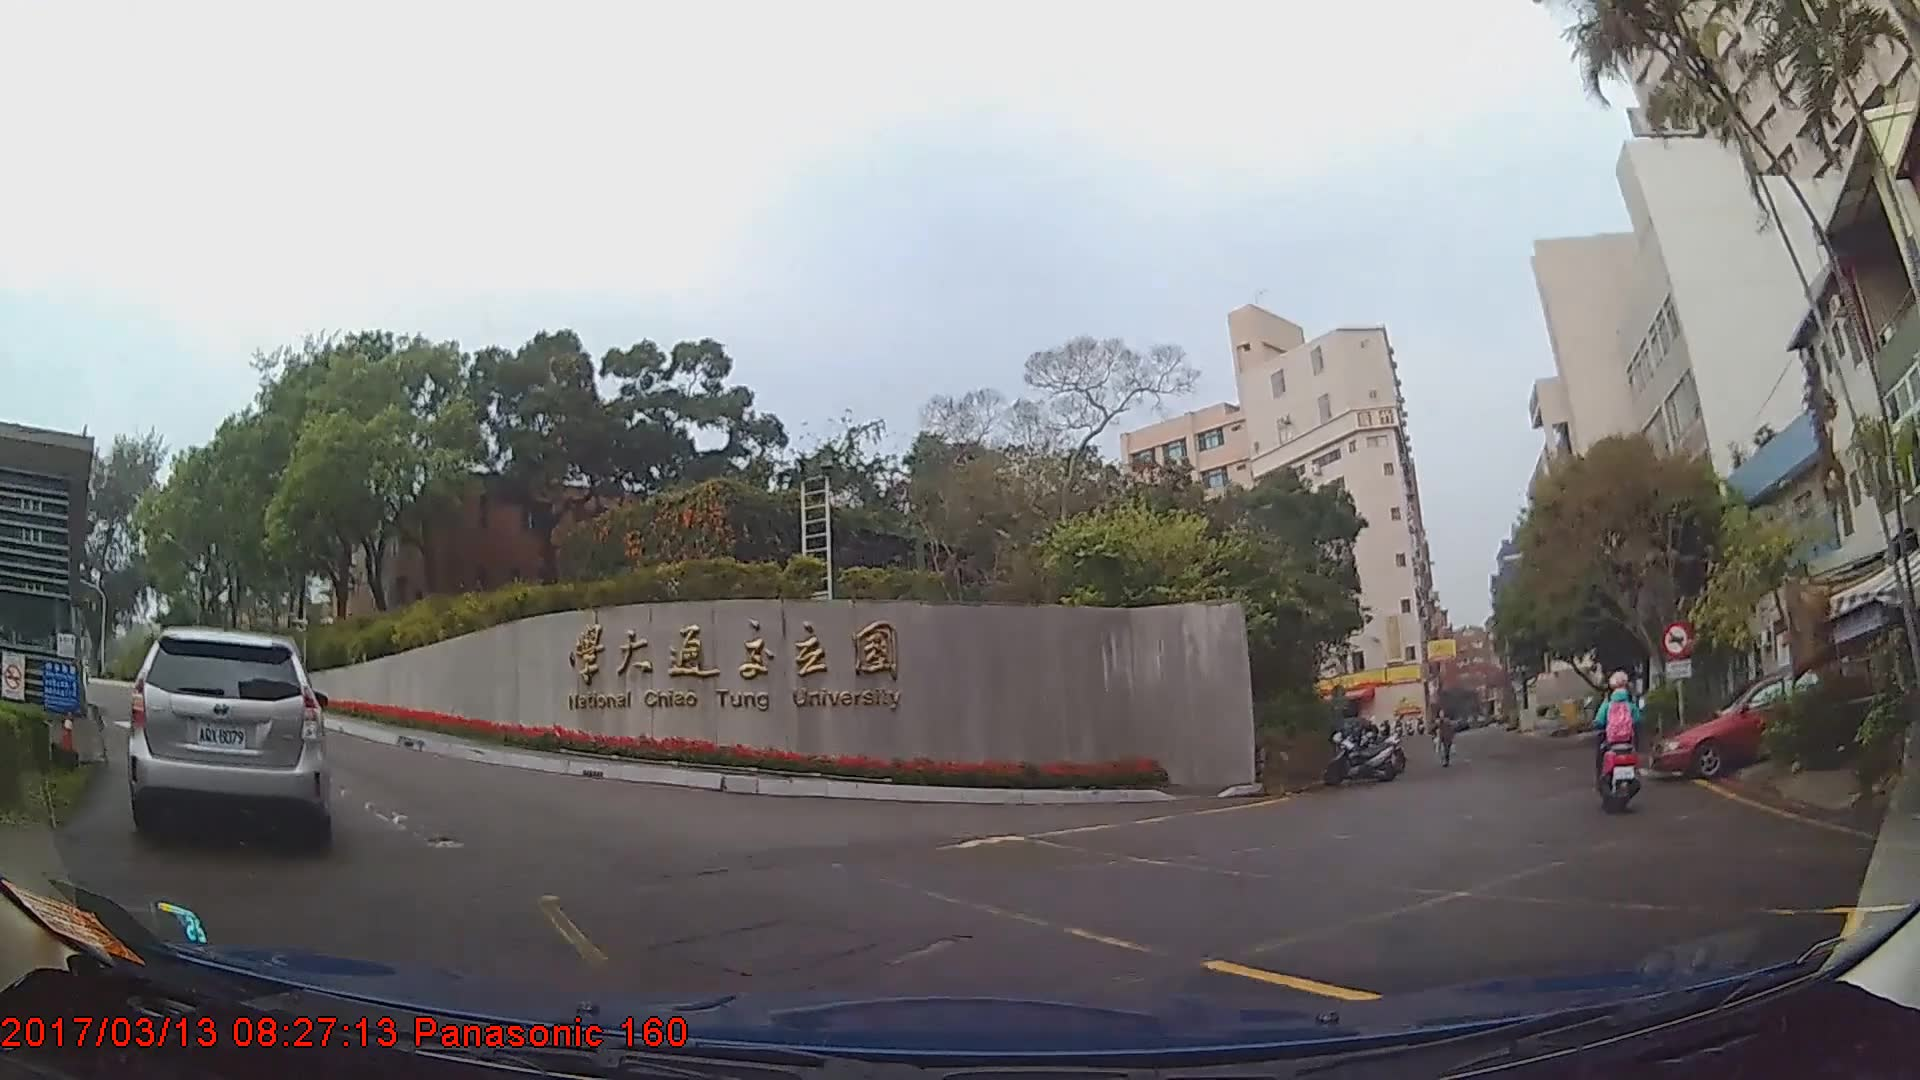pedestrian: (1432, 707, 1458, 768)
rider: (1598, 663, 1646, 810)
vehicle: (128, 625, 331, 849), (1649, 668, 1861, 778)
